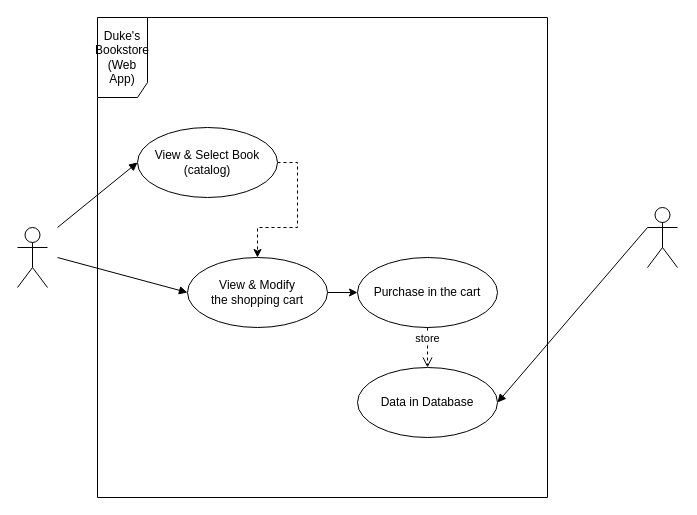
Some shapes in this 697 by 515 pixel diagram are drawn without their labels. The centre of each missing label's shape, as x and y in pixels:
"Owner" goes at point (662, 237).
"User" goes at point (32, 257).
